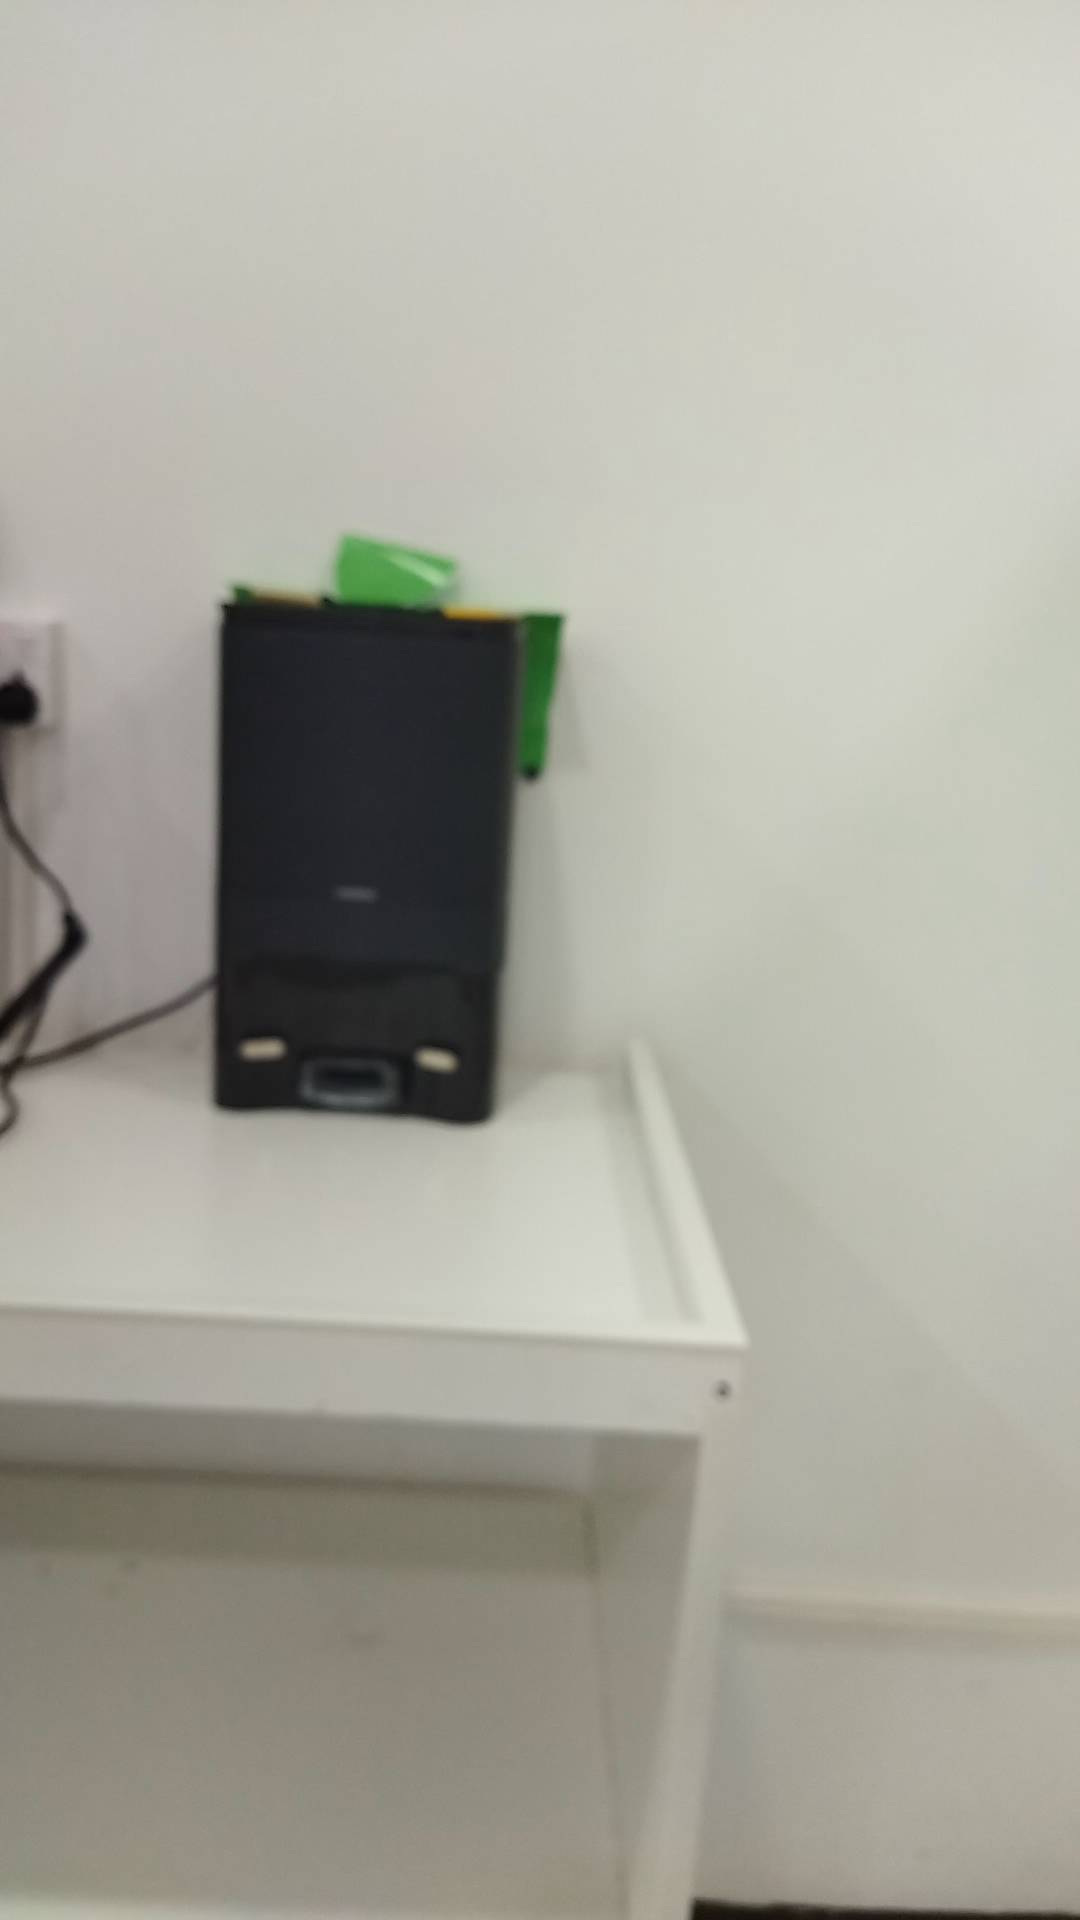dust collecting barrel: (208, 589, 526, 1127)
